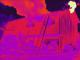Foc: (65, 0, 79, 16)
